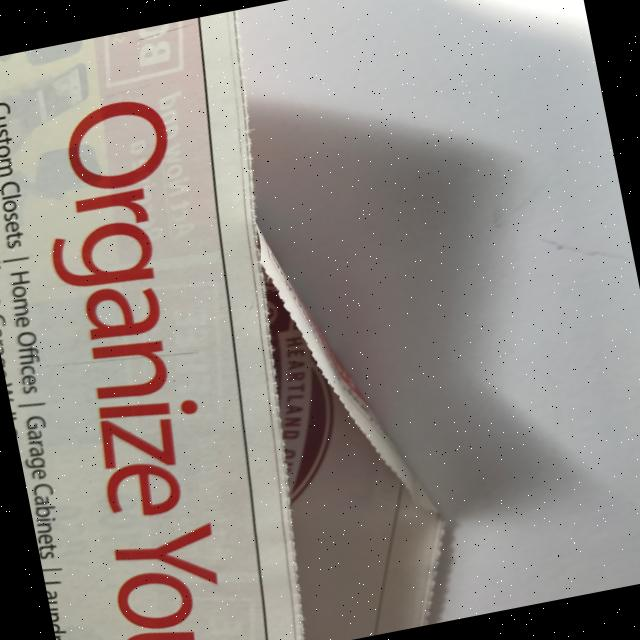paper: (212, 0, 640, 640), (0, 10, 357, 640)
